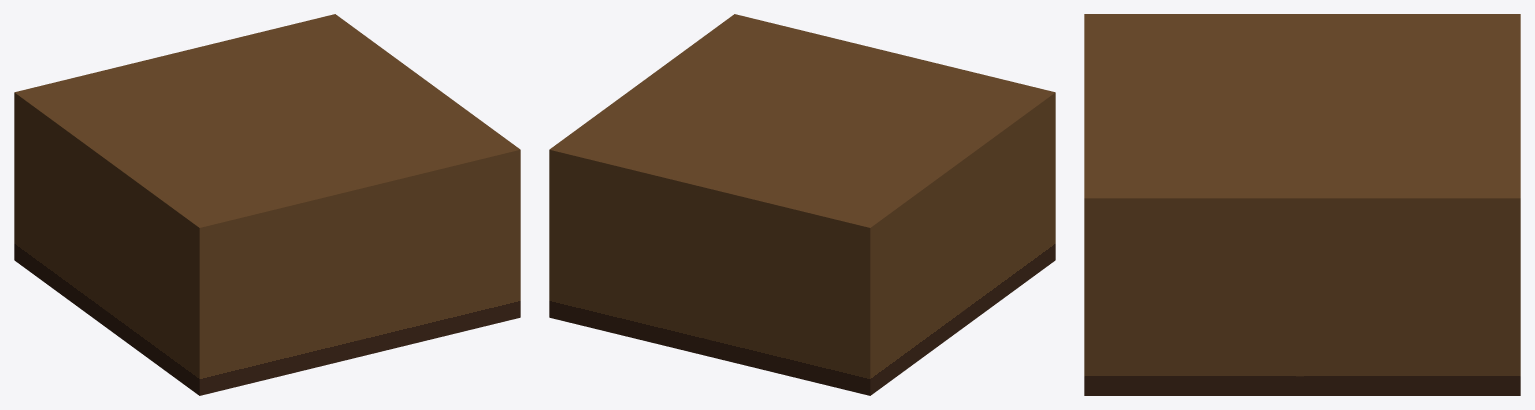
File: quad-low.obj
3 views of the same model, side by side, from view 1: azimuth 30°, elevation 25°; view 2: azimuth 150°, elevation 25°; view 3: azimuth 270°, elevation 25° (orthographic). The views are drawn at different scales.
Visible parts, largest first — view 1: block; view 2: block; view 3: block.
Part boxes in pixels (x1,y1,x2,y2): block: (14, 14, 520, 395); block: (549, 14, 1055, 395); block: (1084, 14, 1520, 395).
Bounding box in the file's own units: 4 × 2 × 4.
Materials: 1 (1 with a texture image).
